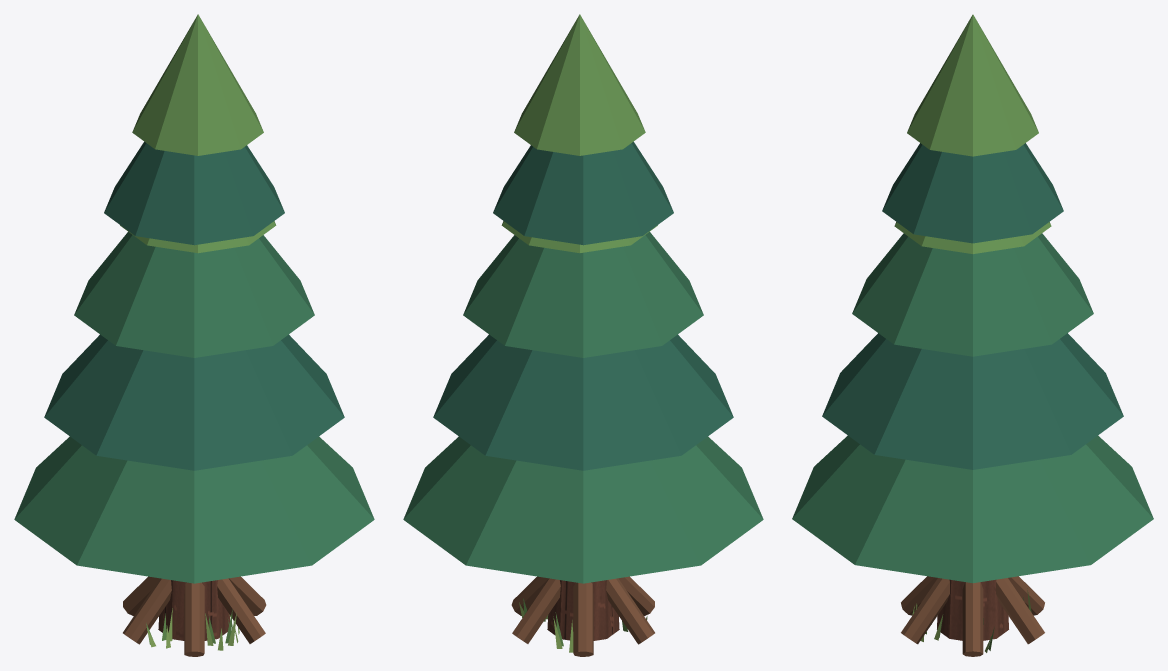
The model's file is fir.glb.
3 views of the same model, side by side, from view 1: azimuth 30°, elevation 25°; view 2: azimuth 150°, elevation 25°; view 3: azimuth 270°, elevation 25° (orthographic).
Visible parts, largest first — view 1: 0_jade, 0_pine, 0_leaf, 0_bark, 0_woodTex, 0_leafLight; view 2: 0_jade, 0_pine, 0_leaf, 0_bark, 0_woodTex; view 3: 0_jade, 0_pine, 0_leaf, 0_bark, 0_woodTex.
Boxes of the visible parts, box(x1,y1,x2,y2) form: 0_jade: box(14, 232, 374, 583); 0_pine: box(44, 141, 344, 470); 0_leaf: box(120, 14, 276, 644); 0_bark: box(123, 576, 266, 656); 0_woodTex: box(158, 580, 229, 640); 0_leafLight: box(146, 608, 239, 650); 0_jade: box(403, 232, 763, 583); 0_pine: box(433, 141, 733, 470); 0_leaf: box(501, 14, 657, 646); 0_bark: box(511, 576, 654, 656); 0_woodTex: box(547, 580, 619, 640); 0_jade: box(792, 233, 1153, 583); 0_pine: box(822, 143, 1123, 469); 0_leaf: box(894, 14, 1051, 650); 0_bark: box(901, 576, 1044, 656); 0_woodTex: box(937, 579, 1008, 640).
Size of the model in its own units: 3.39 by 6.48 by 3.45.
6 materials, 1 textured.
